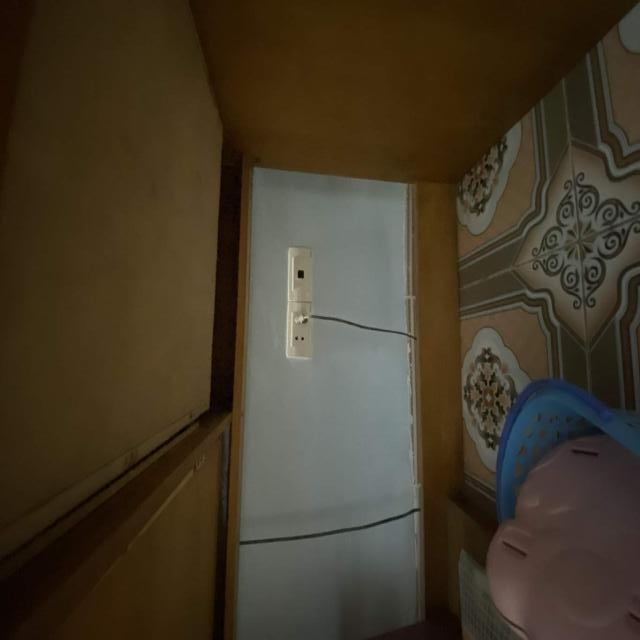outlet: (286, 302, 313, 360), (287, 247, 313, 302)
